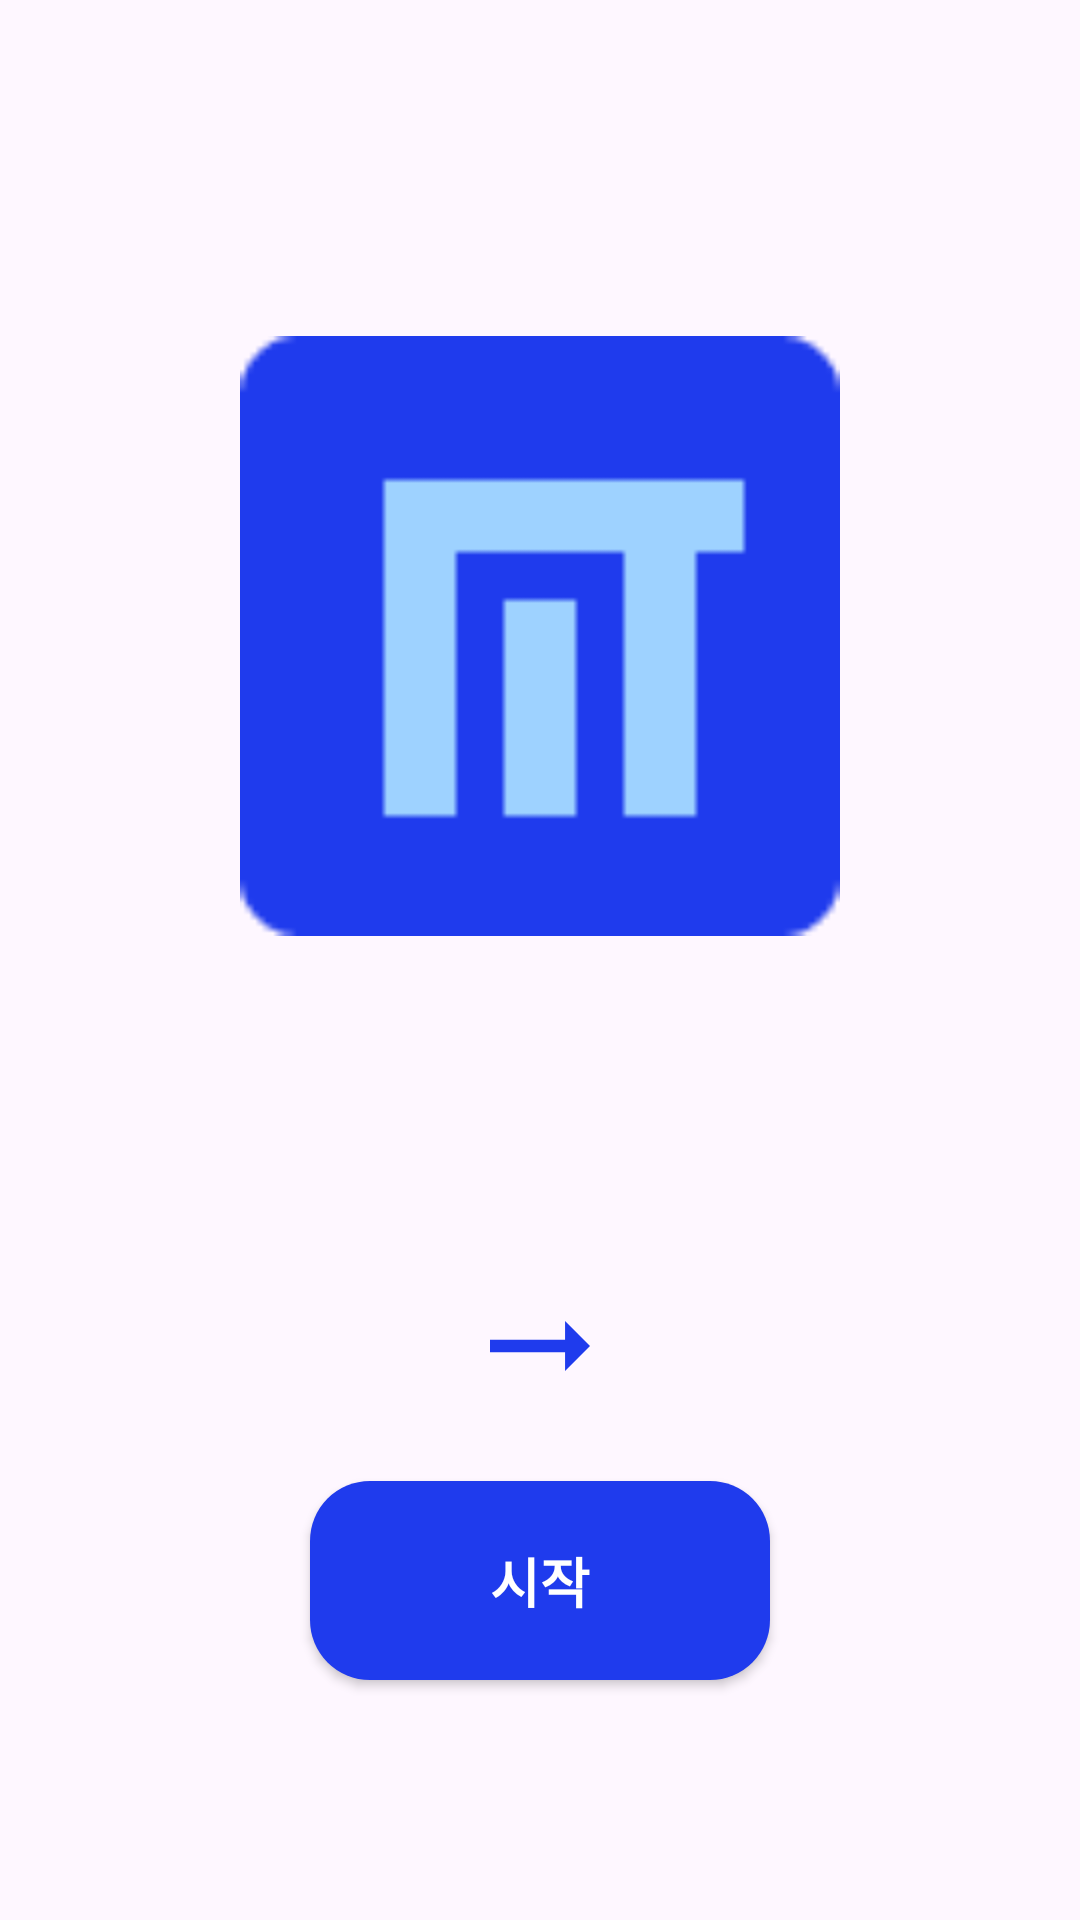

Icons on this 1080px×1920px Android screen, each with its box as (x1, y1, x2, y2):
arrow right: (490, 1321, 590, 1371)
